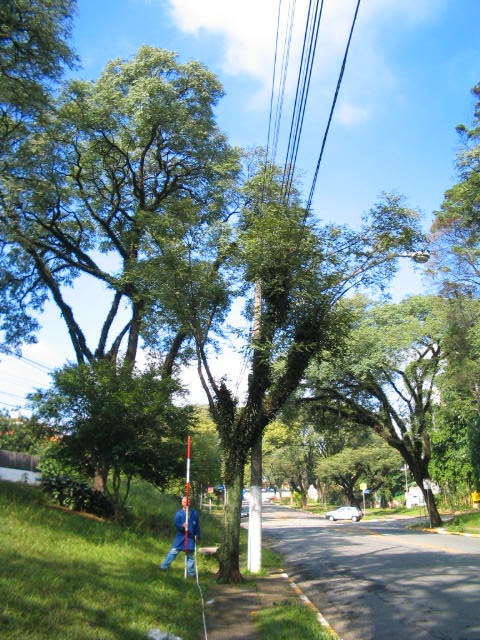stem: (208, 436, 251, 584), (405, 464, 446, 529)
stick: (178, 435, 195, 578)
tree: (2, 45, 247, 511), (125, 150, 352, 584), (297, 297, 460, 529)
